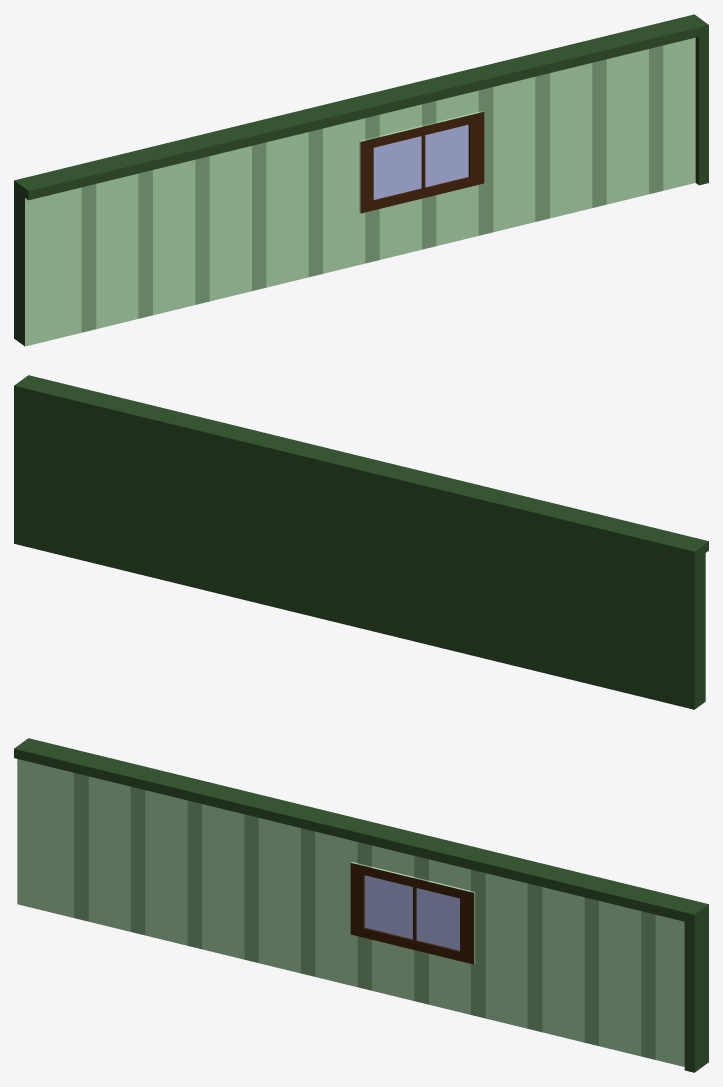
File: RightWallWindow_House.fbx
The picture shows the model from 3 angles, top to bottom: view 1: azimuth 30°, elevation 25°; view 2: azimuth 150°, elevation 25°; view 3: azimuth 330°, elevation 25°; orthographic projection.
Parts seen in each view (by area): view 1: Left_Wall.003; view 2: Left_Wall.003; view 3: Left_Wall.003.
Part boxes in pixels (left/top/right/bottom): Left_Wall.003: left=14, top=14, right=708, bottom=346; Left_Wall.003: left=14, top=375, right=708, bottom=709; Left_Wall.003: left=14, top=738, right=708, bottom=1072.
Bounding box in the file's own units: 9.01 × 2 × 0.3315.
